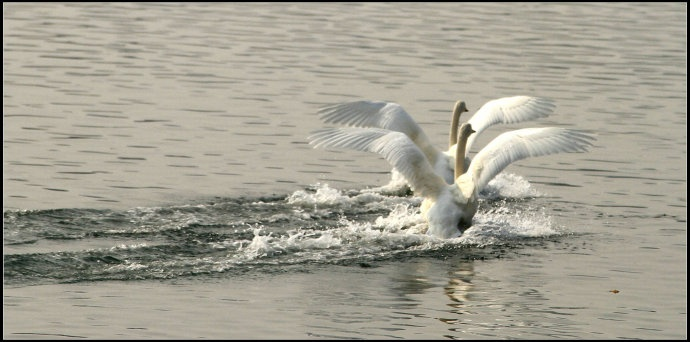bird: (300, 112, 598, 243), (314, 87, 558, 184)
